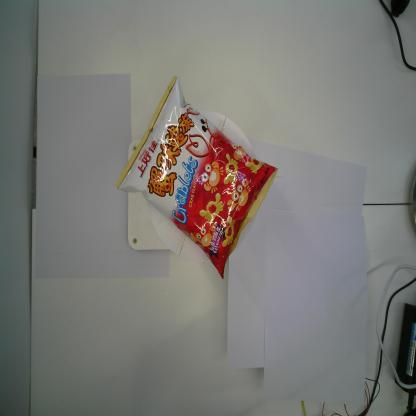Puffed Food: (115, 74, 279, 282)
